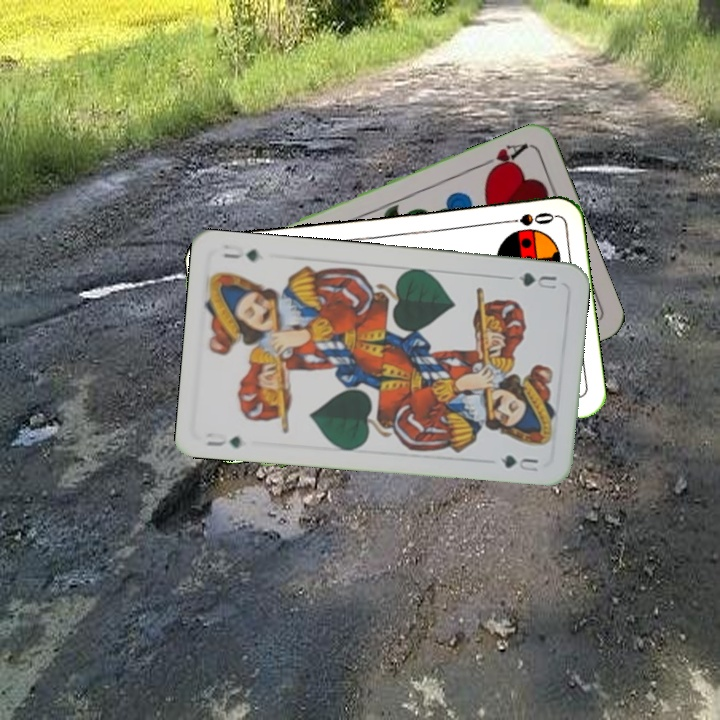GU: (514, 268, 560, 292), (202, 432, 244, 451)
HA: (474, 139, 531, 177)
SO: (498, 208, 557, 229)
